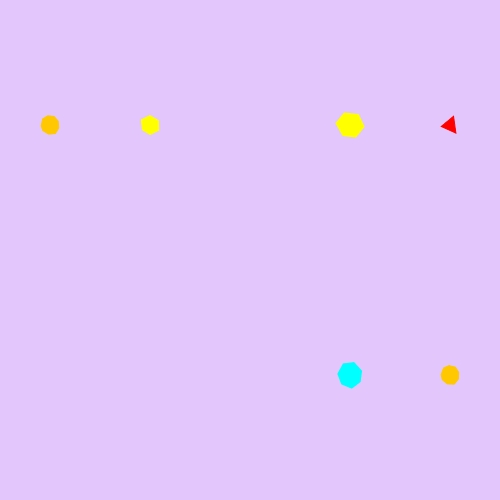heptagon: (333, 359, 367, 392)
hexagon: (332, 109, 369, 141), (135, 112, 165, 138)
nonagon: (36, 111, 65, 139), (436, 361, 465, 389)
triangle: (438, 112, 463, 138)
